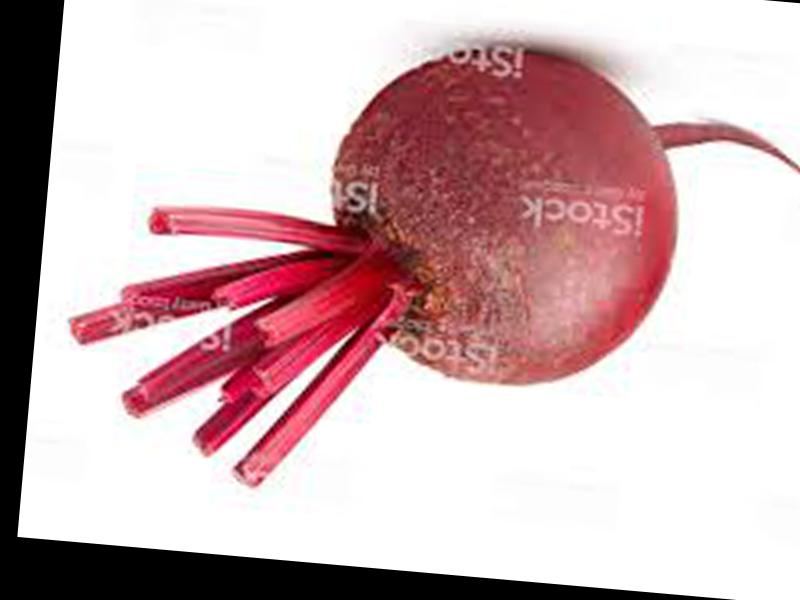Beet: (58, 16, 800, 531)
